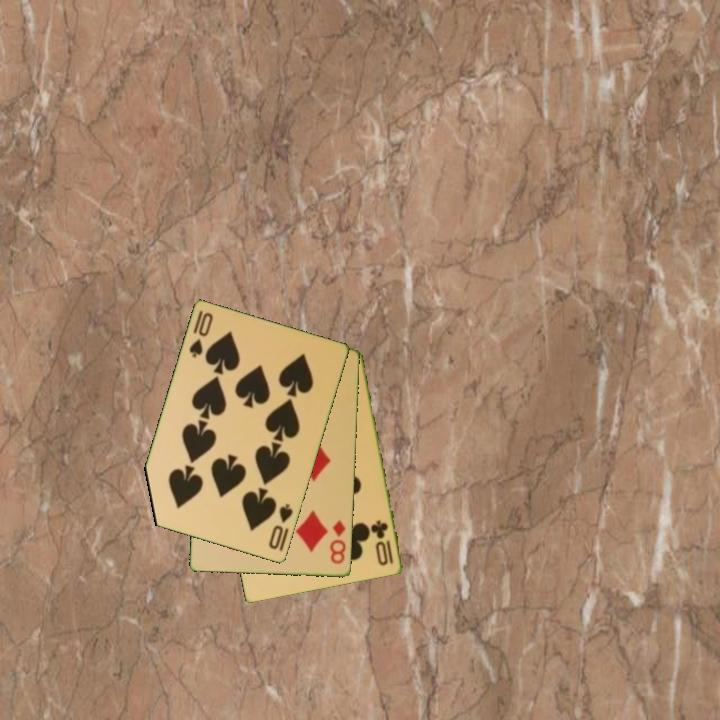10c: (369, 517, 397, 569)
10s: (186, 307, 216, 361), (265, 501, 296, 553)
8d: (327, 517, 349, 567)
